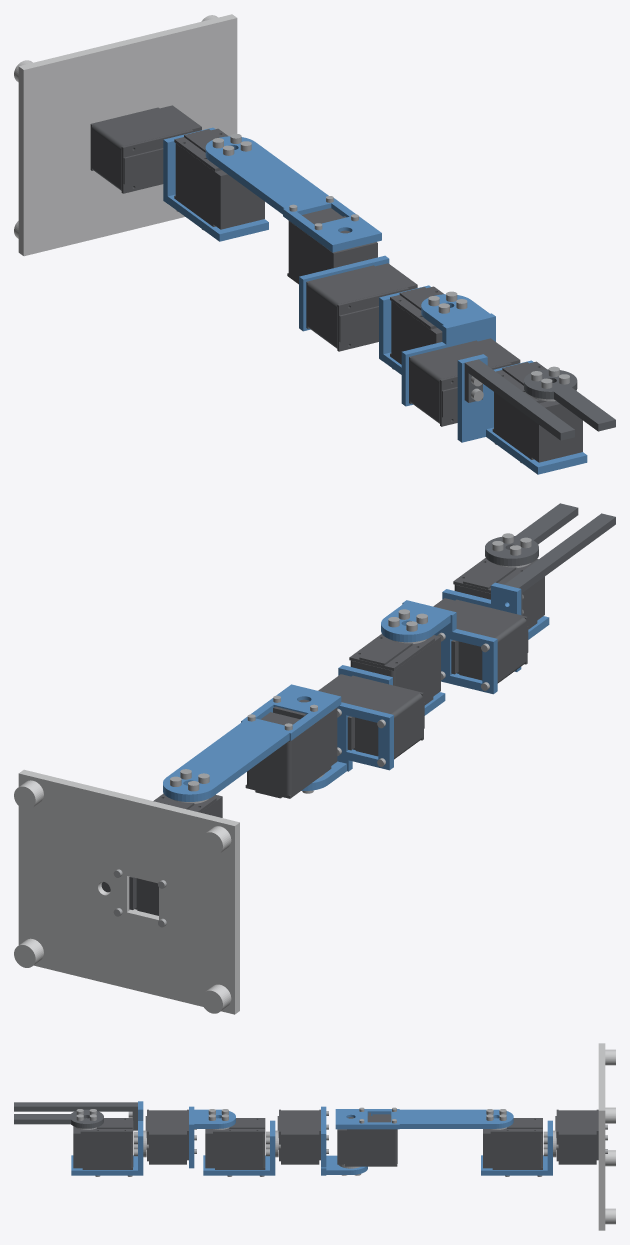
3 views of the same model, one above another, from view 1: azimuth 30°, elevation 25°; view 2: azimuth 150°, elevation 25°; view 3: azimuth 270°, elevation 25° (orthographic). The views are drawn at different scales.
Visible parts, largest first — view 1: geometry_5, geometry_27, geometry_0, geometry_37, geometry_15, geometry_59, geometry_70, geometry_73, geometry_60, geometry_26, geometry_48, geometry_74 (+4 smaller); view 2: geometry_5, geometry_27, geometry_26, geometry_37, geometry_59, geometry_60, geometry_48, geometry_38, geometry_70, geometry_74, geometry_80, geometry_73 (+3 smaller); view 3: geometry_27, geometry_70, geometry_48, geometry_15, geometry_26, geometry_0, geometry_37, geometry_59, geometry_5, geometry_74, geometry_80, geometry_60 (+4 smaller).
Part boxes in pixels (<box>): geometry_5: <box>14,14,237,256</box>; geometry_27: <box>205,136,381,252</box>; geometry_0: <box>90,105,201,193</box>; geometry_37: <box>306,263,417,351</box>; geometry_15: <box>174,128,264,229</box>; geometry_59: <box>409,338,520,426</box>; geometry_70: <box>492,361,582,462</box>; geometry_73: <box>457,354,587,474</box>; geometry_60: <box>401,294,495,406</box>; geometry_26: <box>287,208,377,284</box>; geometry_48: <box>390,286,444,364</box>; geometry_74: <box>464,359,574,440</box>; geometry_5: <box>14,769,239,1014</box>; geometry_27: <box>163,684,341,801</box>; geometry_26: <box>245,699,337,798</box>; geometry_37: <box>318,674,424,759</box>; geometry_59: <box>433,598,528,683</box>; geometry_60: <box>381,600,497,694</box>; geometry_48: <box>349,634,440,705</box>; geometry_38: <box>301,702,393,790</box>; geometry_70: <box>453,558,544,629</box>; geometry_74: <box>504,513,615,615</box>; geometry_80: <box>485,503,578,566</box>; geometry_73: <box>442,582,549,671</box>; geometry_27: <box>335,1109,513,1129</box>; geometry_70: <box>73,1118,133,1169</box>; geometry_48: <box>205,1118,265,1169</box>; geometry_15: <box>483,1118,542,1169</box>; geometry_26: <box>337,1112,397,1166</box>; geometry_0: <box>555,1109,598,1164</box>; geometry_37: <box>277,1109,320,1164</box>; geometry_59: <box>145,1109,188,1164</box>; geometry_5: <box>598,1043,615,1230</box>; geometry_74: <box>14,1102,137,1130</box>; geometry_80: <box>14,1109,103,1128</box>; geometry_60: <box>189,1106,235,1168</box>.
Size of the model in its own units: 0.12 by 0.1 by 0.455.
